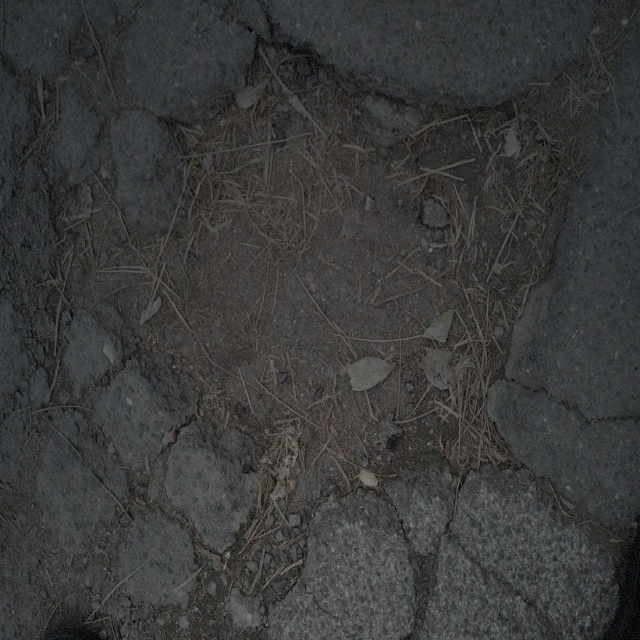pothole: (117, 31, 593, 522)
